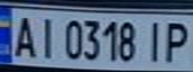0: (60, 16, 84, 61)
1: (100, 18, 121, 62)
3: (78, 17, 103, 62)
8: (115, 17, 142, 63)
A: (9, 12, 39, 60)
I: (139, 18, 169, 63), (33, 13, 60, 60)
P: (160, 18, 193, 63)
